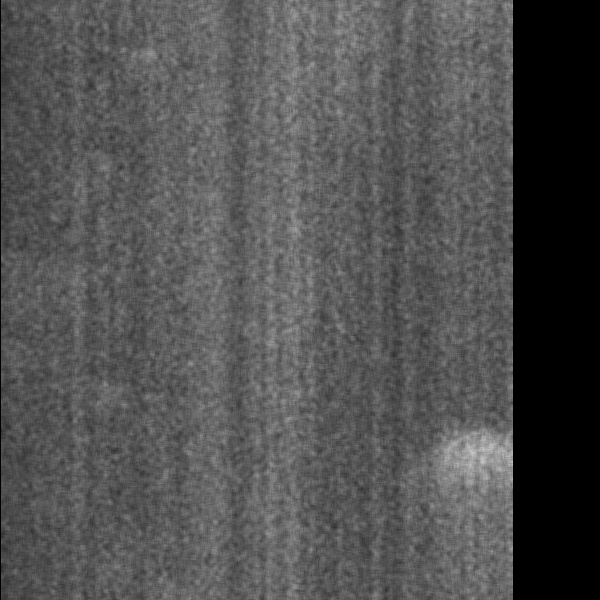spark: (335, 1, 377, 158), (469, 428, 503, 527), (132, 44, 188, 78)
